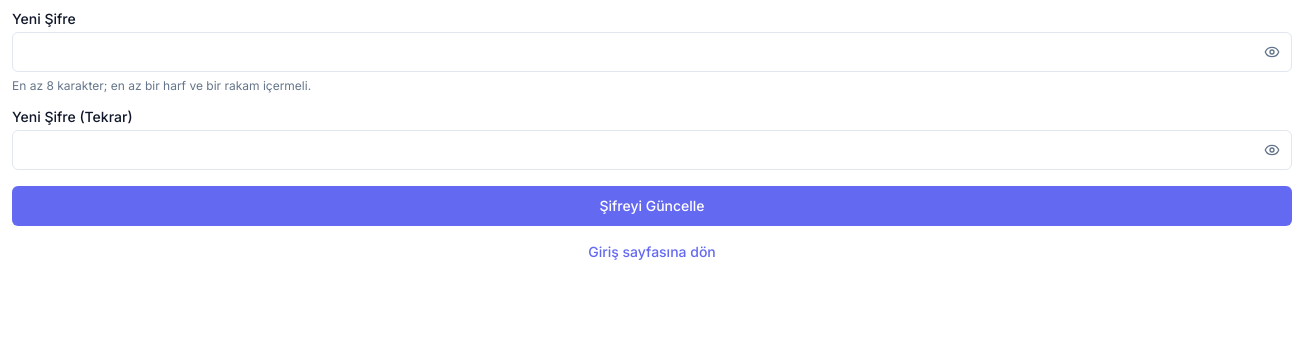
Şifre sıfırlama — süresi dolmuş bağlantıda yeni bağlantı düğmesi (AJ-36) › token reddi dışındaki hatada (ağ hatası) düğme görünmez
Type "GucluSifre123!" into the password field labelled "Yeni Şifre" at (652, 52), box [12,32,1292,72]
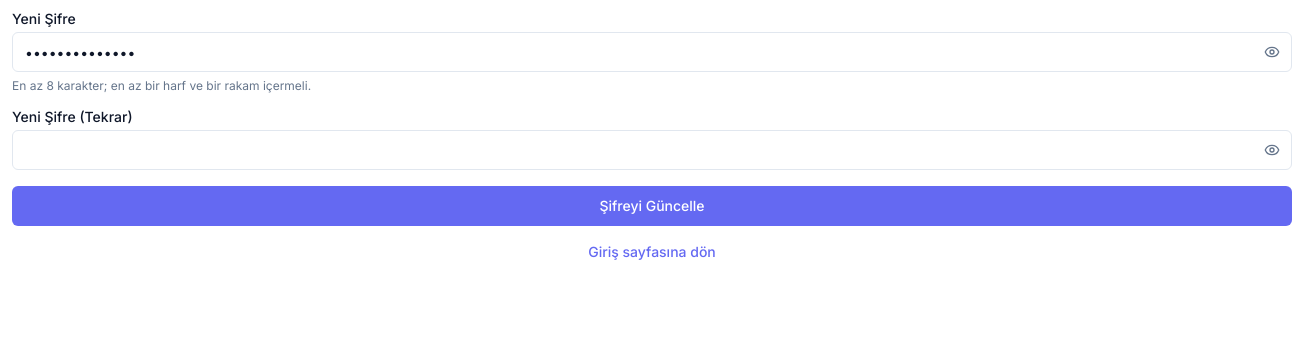
Type "GucluSifre123!" into the password field labelled "Yeni Şifre (Tekrar)" at (652, 150), box [12,130,1292,170]
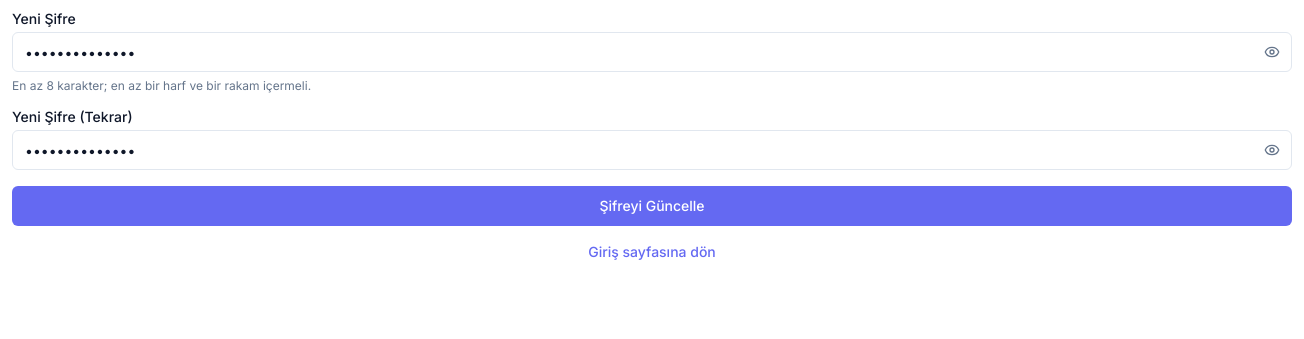
Click the button "Şifreyi Güncelle" at (652, 206), box [12,186,1292,226]
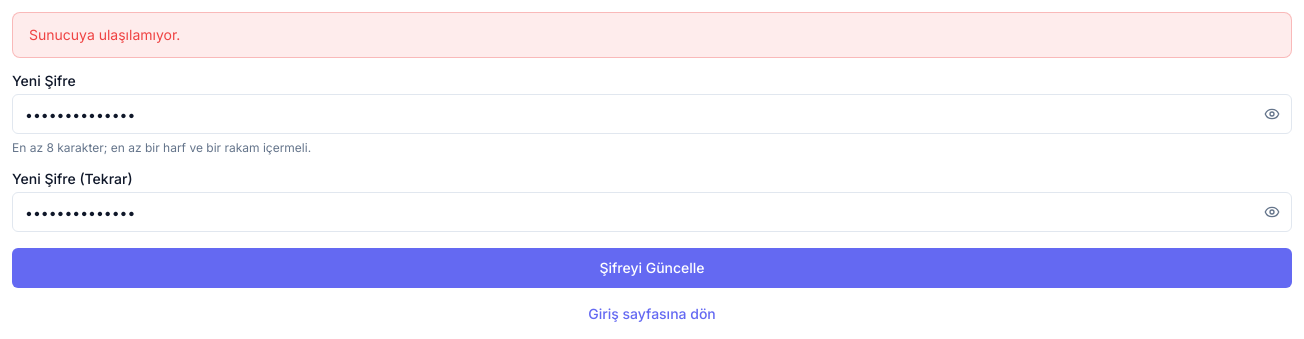
Check: the text "Sunucuya ulaşılamıyor." is shown, box [12,12,1292,58]
